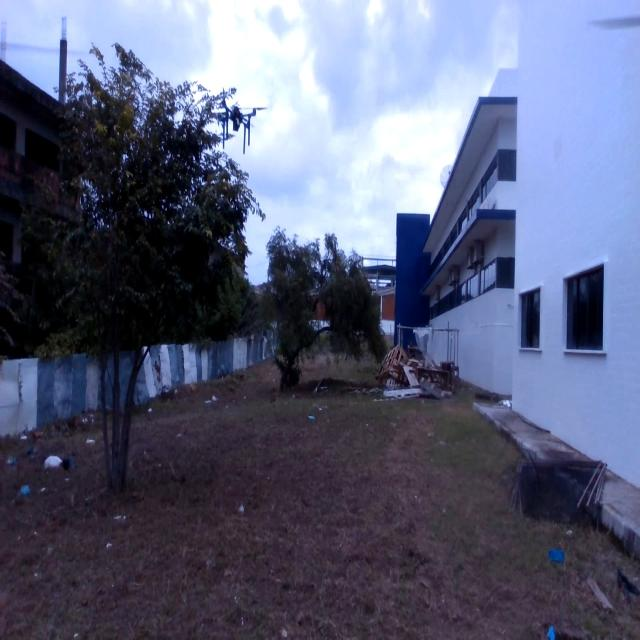-uav-: (212, 81, 265, 175)
